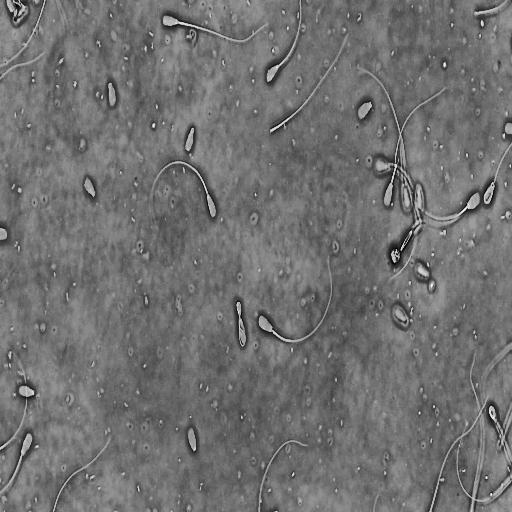coiled-tail: (236, 301, 242, 327), (239, 325, 246, 346), (391, 164, 398, 182)
dirt-particles: (389, 245, 401, 266)
distal-droplet: (51, 432, 113, 512), (0, 345, 30, 454)
loose-head: (356, 99, 374, 123), (185, 422, 198, 454), (184, 122, 196, 154), (83, 173, 97, 200), (107, 79, 118, 109), (16, 382, 35, 399)
loose-tail: (266, 26, 353, 138), (427, 390, 492, 512), (455, 414, 512, 506), (257, 435, 310, 512), (468, 343, 486, 512), (0, 45, 48, 83)
normal: (257, 254, 333, 345), (151, 159, 218, 222), (160, 11, 271, 45), (265, 0, 302, 85), (415, 188, 481, 225), (0, 429, 34, 496), (481, 138, 512, 209), (232, 294, 249, 352), (382, 160, 399, 210)
